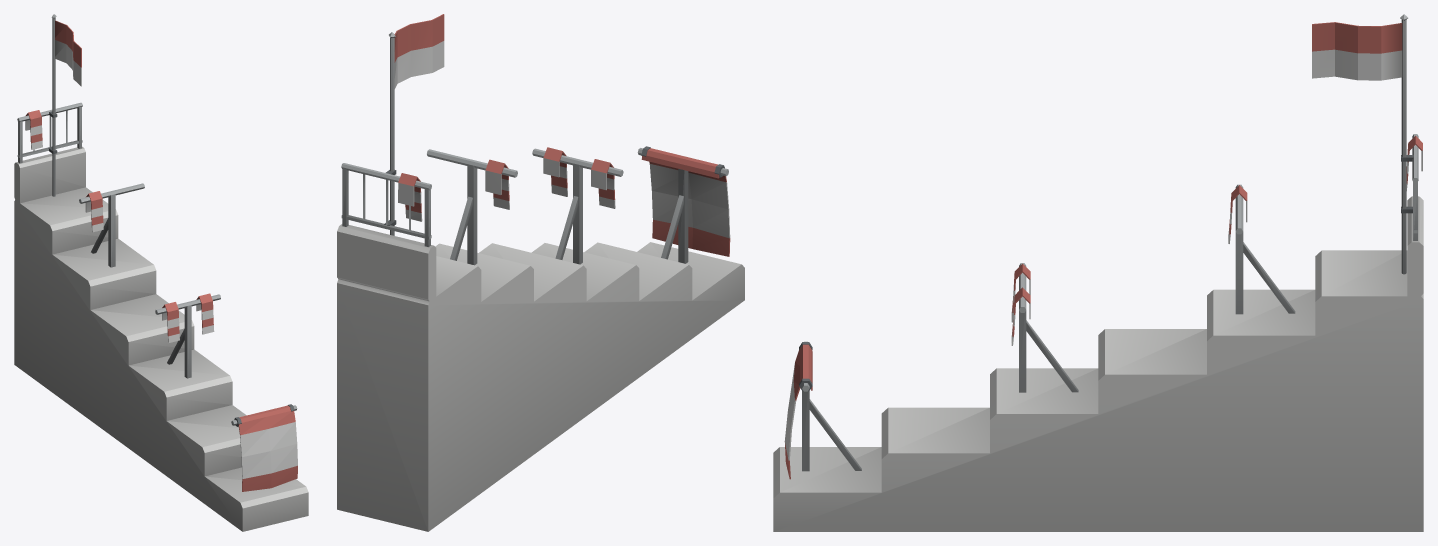
The model's file is terrace.glb.
The picture shows the model from 3 angles, left to right: view 1: azimuth 30°, elevation 25°; view 2: azimuth 150°, elevation 25°; view 3: azimuth 270°, elevation 25°; orthographic projection. The views are drawn at different scales.
Visible parts, largest first — view 1: terrace.001; view 2: terrace.001; view 3: terrace.001.
Boxes of the visible parts, bbox=[...] form: terrace.001: bbox=[14, 14, 308, 531]; terrace.001: bbox=[337, 14, 744, 531]; terrace.001: bbox=[773, 14, 1423, 531].
Bounding box in the file's own units: 1.5 × 7.56 × 9.
